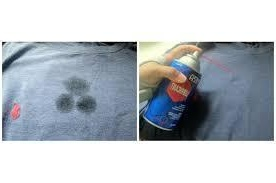oil: (54, 76, 104, 117)
